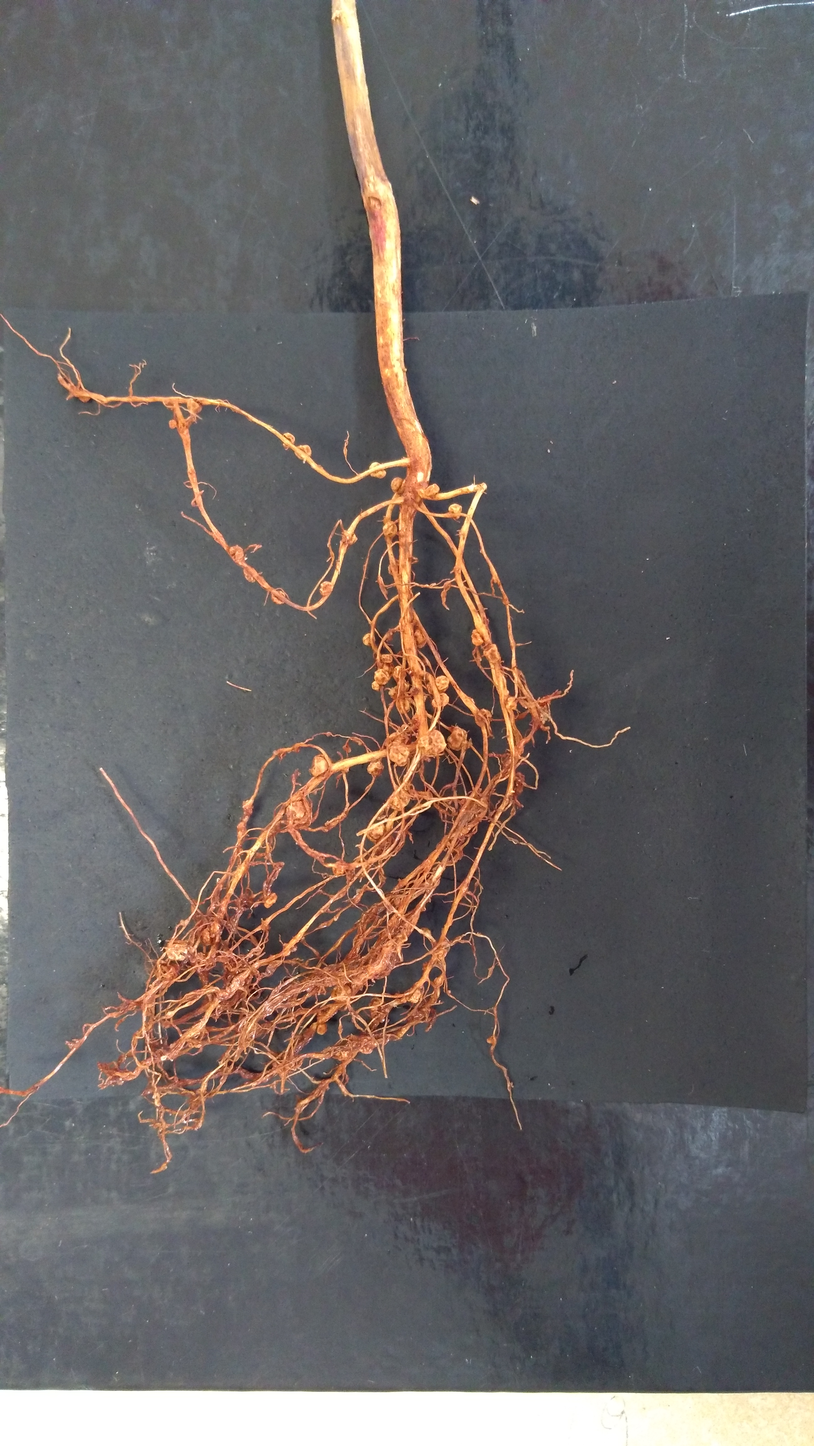nodule: (417, 729, 447, 755), (371, 950, 396, 980), (285, 800, 310, 824), (446, 727, 468, 751), (389, 742, 410, 767), (387, 789, 410, 811), (166, 939, 189, 961), (384, 731, 409, 750), (370, 997, 388, 1023), (426, 676, 449, 696), (309, 755, 329, 775), (331, 984, 351, 1004), (473, 707, 493, 727), (366, 822, 385, 842), (482, 643, 499, 665), (369, 461, 387, 479), (294, 444, 312, 461), (405, 987, 422, 1005), (279, 941, 298, 957), (186, 397, 203, 414), (367, 760, 385, 776), (359, 1039, 377, 1055), (430, 693, 449, 708), (234, 894, 253, 909), (334, 1048, 354, 1062), (341, 530, 358, 546), (374, 668, 391, 684), (395, 697, 410, 715), (470, 628, 485, 646), (229, 545, 244, 562), (448, 503, 463, 520), (383, 521, 398, 537), (281, 432, 295, 449), (243, 566, 257, 583), (319, 580, 333, 597), (367, 195, 382, 210), (271, 590, 286, 605), (331, 861, 345, 877), (390, 477, 403, 494), (336, 759, 350, 774), (263, 893, 277, 908), (425, 483, 439, 498), (538, 704, 548, 725), (236, 821, 247, 840), (210, 922, 222, 938), (77, 389, 91, 402), (242, 800, 254, 815), (362, 633, 375, 646), (396, 679, 409, 692), (387, 562, 399, 576), (382, 662, 394, 676), (202, 928, 212, 944), (394, 666, 407, 678), (435, 947, 447, 960), (514, 771, 525, 785), (506, 697, 517, 710), (478, 795, 489, 808), (370, 681, 384, 691), (482, 628, 491, 643), (316, 1023, 327, 1035), (420, 926, 432, 937), (389, 686, 399, 699), (417, 637, 427, 650), (414, 630, 422, 644), (381, 654, 393, 663), (422, 960, 430, 973), (168, 419, 177, 429), (410, 686, 419, 696), (341, 743, 351, 752), (487, 1036, 497, 1044), (433, 976, 442, 984), (393, 896, 400, 906), (329, 821, 337, 828), (325, 731, 331, 736)
